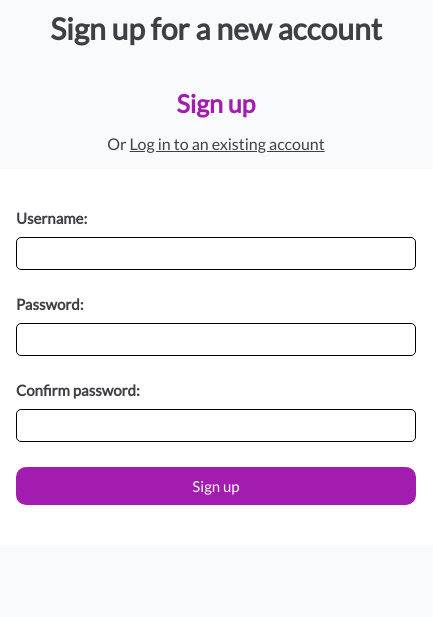
Scenario: SignUp form Page › performs client side validation
Click the button "Sign up". click: point(216, 486)
box: [16,467,416,505]
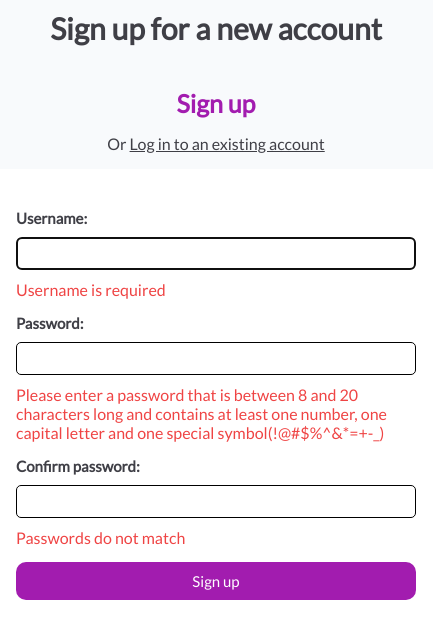
Expected: the text "Username is required" is shown, [16,280,166,299]
Expected: the text "Please enter a password that is between 8 and 20 characters long and contains at least one number, one capital letter an" is shown, [16,385,387,442]
Expected: the text "Passwords do not match" is shown, [16,528,185,547]
